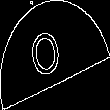O_S: (36, 24, 74, 86)
